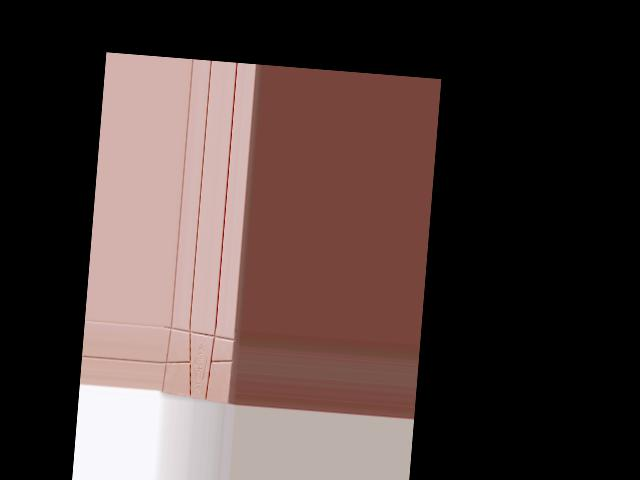chocolate: (158, 322, 238, 406)
